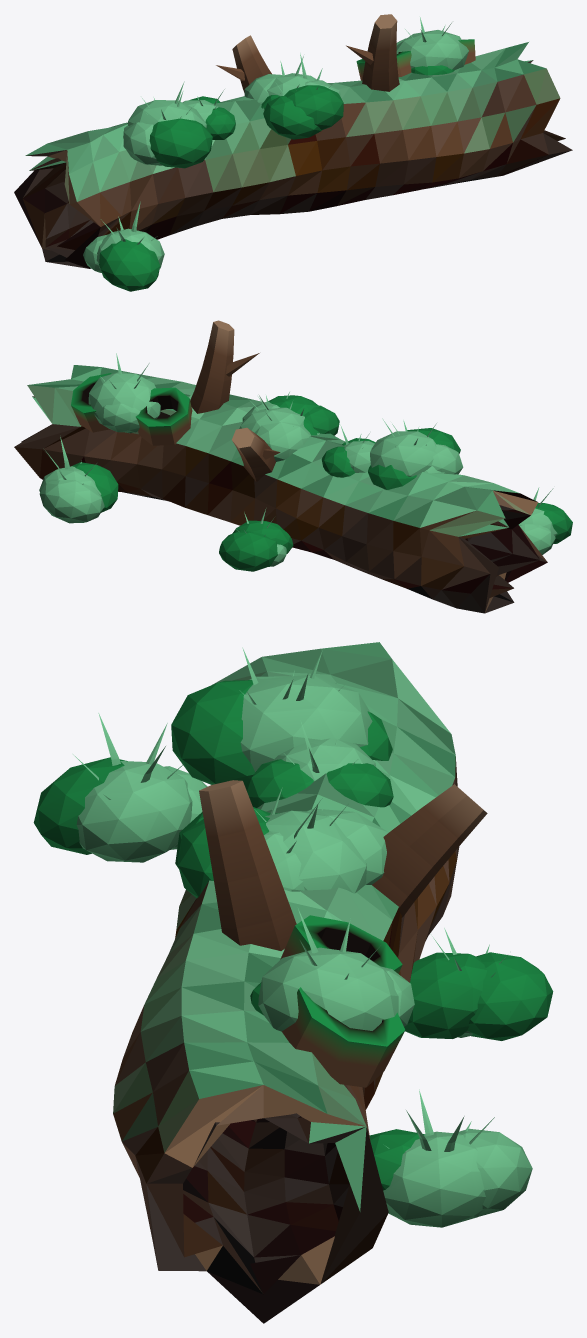
The model's file is pohon_tumbang_hollow_rainforest_517077 (5).glb.
3 renders of one model, top to bottom at view 1: azimuth 30°, elevation 25°; view 2: azimuth 150°, elevation 25°; view 3: azimuth 270°, elevation 25°, orthographic. The views are drawn at different scales.
Parts seen in each view (by area): view 1: Batang_Pohon_Berlubang; view 2: Batang_Pohon_Berlubang; view 3: Batang_Pohon_Berlubang.
Boxes of the visible parts, bbox=[...] form: Batang_Pohon_Berlubang: bbox=[14, 14, 572, 291]; Batang_Pohon_Berlubang: bbox=[14, 320, 572, 613]; Batang_Pohon_Berlubang: bbox=[33, 642, 553, 1323].
Size of the model in its own units: 7.56 by 2.81 by 3.44.
